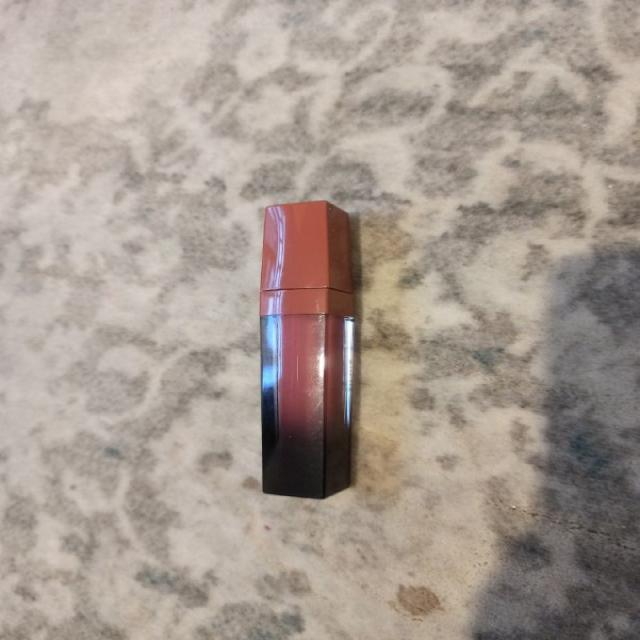lipstick: (258, 200, 356, 498)
